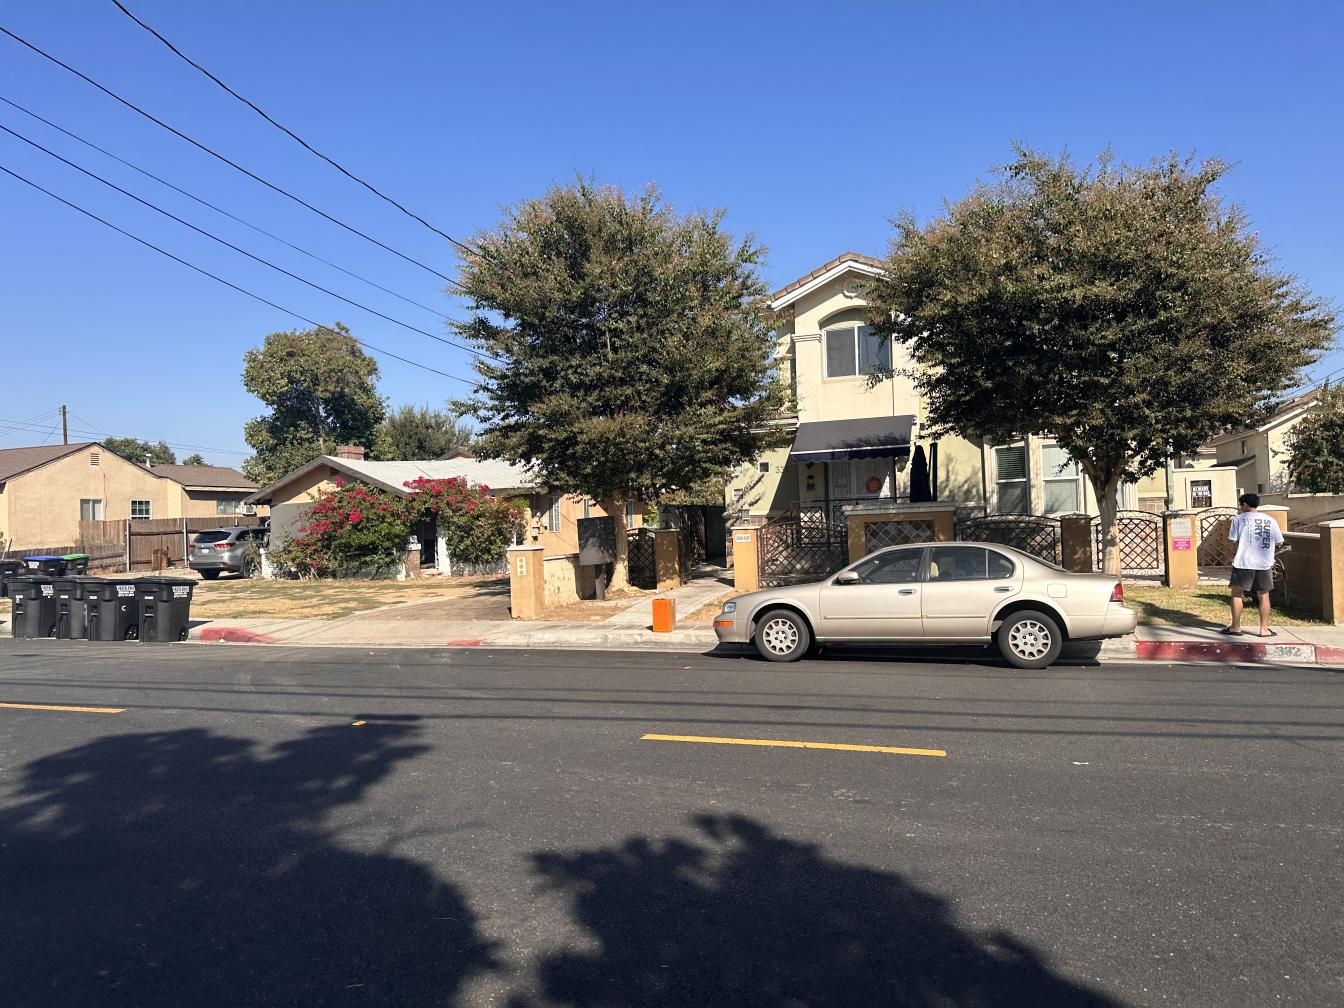curbs-laRr: (523, 632, 703, 650)
orange box: (653, 598, 676, 632)
